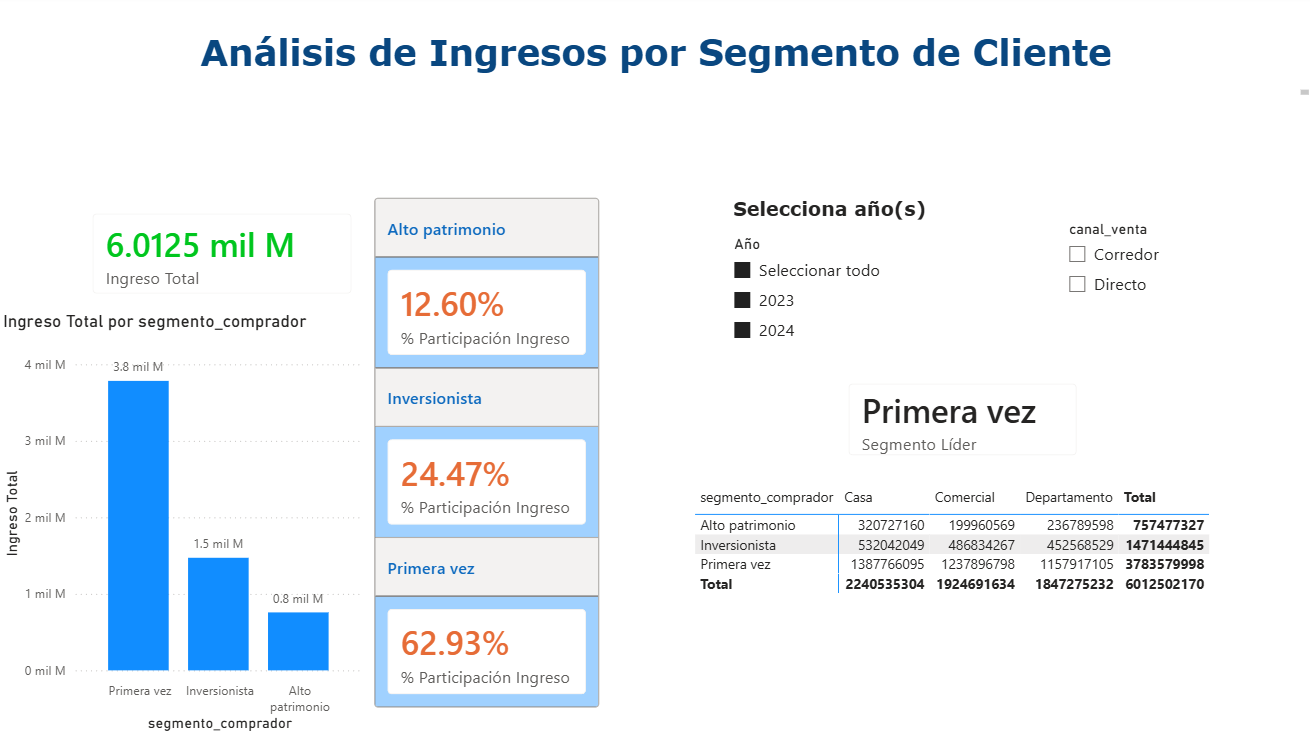

The dashboard page shown, as its layout file describes it:
{"tool":"powerbi","page":{"name":"Segmento de clientes","canvas":[1280,720],"ordinal":2},"visuals":[{"type":"clusteredColumnChart","fields":{"Y":["DIM_fecha.Ingreso Total"],"Category":["dim_clientes.segmento_comprador"]},"box":[0,306.4,360.9,413.5],"z":0},{"type":"textbox","title":"Análisis de Ingresos por Segmento de Cliente","box":[0,33.4,1280,67.7],"z":1000},{"type":"cardVisual","fields":{"Data":["DIM_fecha.Ingreso Total"]},"box":[74.8,194.1,286.1,112.2],"z":2000},{"type":"cardVisual","fields":{"Data":["dim_clientes.Segmento Líder"]},"box":[809.9,359.9,256.8,104.1],"z":3000},{"type":"pivotTable","fields":{"Rows":["dim_clientes.segmento_comprador"],"Columns":["dim_propiedades.tipo_propiedad"],"Values":["DIM_fecha.Ingreso Total"]},"box":[673.4,472.2,521.7,143.6],"z":4000},{"type":"slicer","title":"Selecciona año(s)","fields":{"Values":["DIM_fecha.Año"]},"box":[703.7,194.1,211.3,149.6],"z":5000},{"type":"cardVisual","fields":{"Data":["DIM_fecha.% Participación Ingreso"],"Rows":["dim_clientes.segmento_comprador"]},"box":[360.9,170.9,229.3,548.7],"z":6000},{"type":"slicer","fields":{"Values":["hecho_ventas_propiedades.canal_venta"]},"box":[1029.3,213.3,165.8,111.2],"z":7000}]}

Visuals, with their boxes in screenshot pixels (x1, y1, x2, y2), scaled from the page's 1280x720 canvas onto the 1310x734 screenshot:
clusteredColumnChart - DIM_fecha.Ingreso Total x dim_clientes.segmento_comprador: <box>0,312,369,733</box>
"Análisis de Ingresos por Segmento de Cliente" textbox: <box>0,34,1309,103</box>
cardVisual - DIM_fecha.Ingreso Total: <box>77,198,369,312</box>
cardVisual - dim_clientes.Segmento Líder: <box>829,367,1092,473</box>
pivotTable - dim_clientes.segmento_comprador x dim_propiedades.tipo_propiedad: <box>689,481,1223,628</box>
"Selecciona año(s)" slicer: <box>720,198,936,350</box>
cardVisual - DIM_fecha.% Participación Ingreso x dim_clientes.segmento_comprador: <box>369,174,604,733</box>
slicer - hecho_ventas_propiedades.canal_venta: <box>1053,217,1223,331</box>
